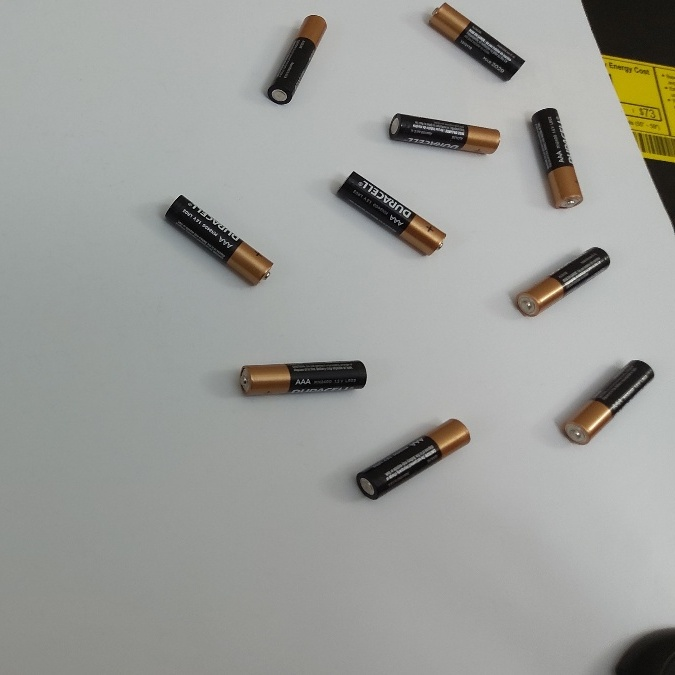battery: (350, 416, 472, 500), (164, 196, 276, 283), (336, 171, 448, 257), (558, 356, 655, 449), (429, 1, 522, 80), (515, 240, 609, 317), (232, 347, 371, 398), (380, 106, 505, 162), (261, 11, 327, 107), (530, 105, 584, 214)
